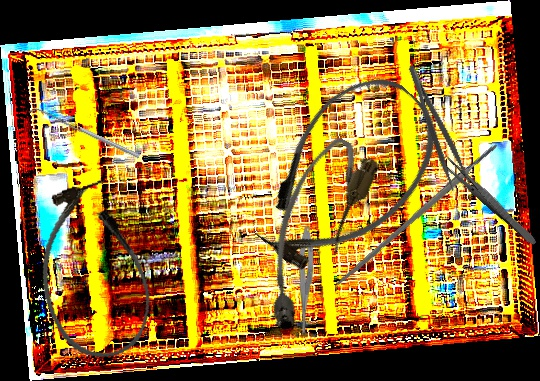Cannula: (227, 54, 463, 295), (238, 129, 385, 338), (24, 173, 162, 369)
Dressing Forceps: (439, 154, 540, 248), (405, 59, 472, 193)
Micro Scissor: (297, 226, 315, 341)
Scalpel Handle: (334, 142, 500, 289)
Spatula Surgical: (28, 104, 141, 163)
